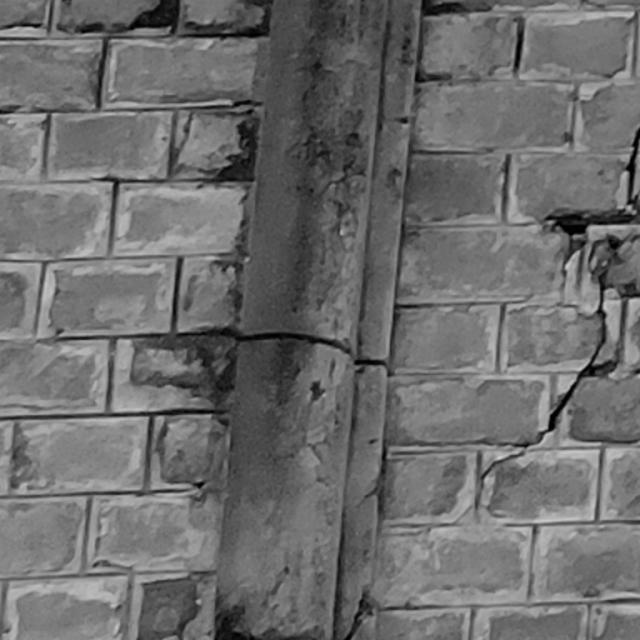crack: (475, 127, 640, 509)
